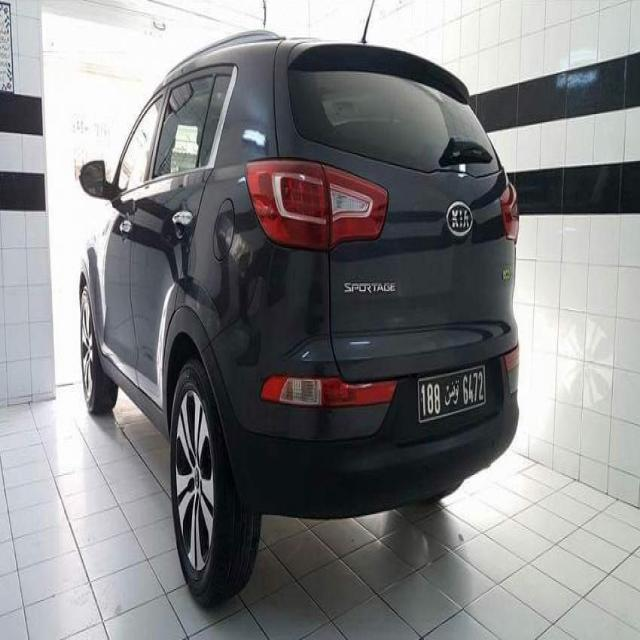licence plate: (419, 368, 484, 420)
